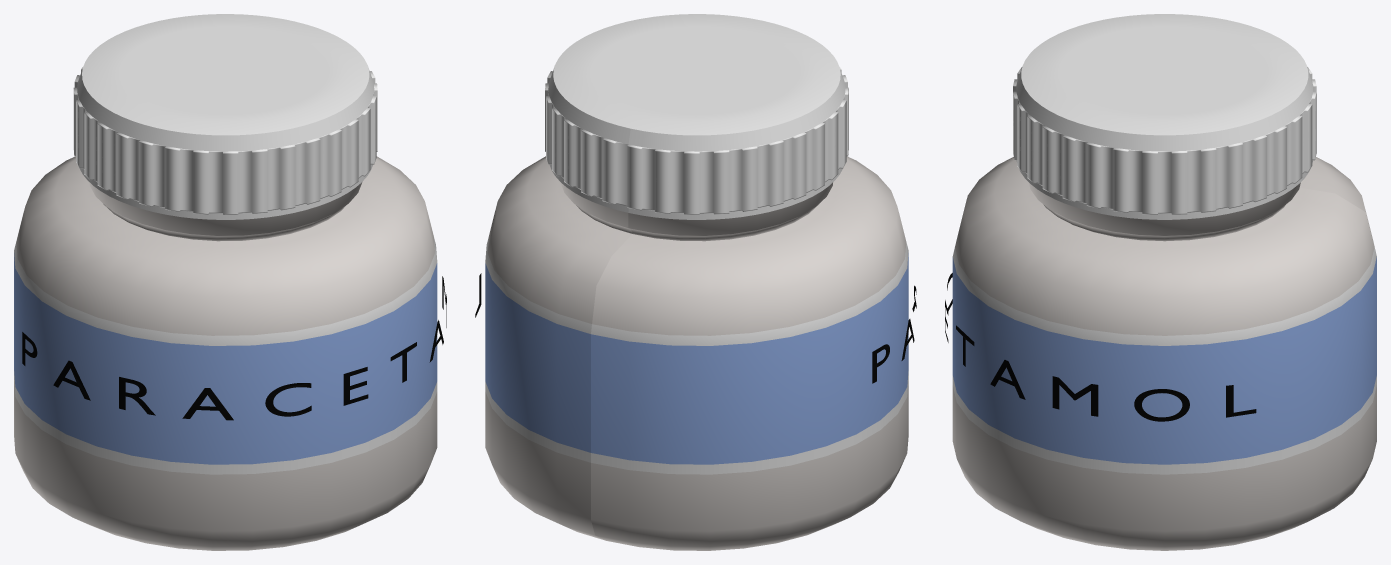
Rendered from botol_Paracetamol.fbx.
3 renders of one model, left to right at view 1: azimuth 30°, elevation 25°; view 2: azimuth 150°, elevation 25°; view 3: azimuth 270°, elevation 25°, orthographic.
Parts seen in each view (by area): view 1: pill_bottle, pill_lid, Text; view 2: pill_bottle, pill_lid, Text; view 3: pill_bottle, pill_lid, Text.
Boxes of the visible parts, x1,y1,x2,y2 form: pill_bottle: (14, 156, 437, 550); pill_lid: (73, 14, 377, 219); Text: (22, 276, 446, 420); pill_bottle: (485, 156, 908, 550); pill_lid: (545, 14, 848, 219); Text: (475, 273, 916, 383); pill_bottle: (952, 157, 1376, 550); pill_lid: (1013, 14, 1316, 219); Text: (945, 273, 1256, 421).
Bounding box in the file's own units: 178 × 182 × 174.
